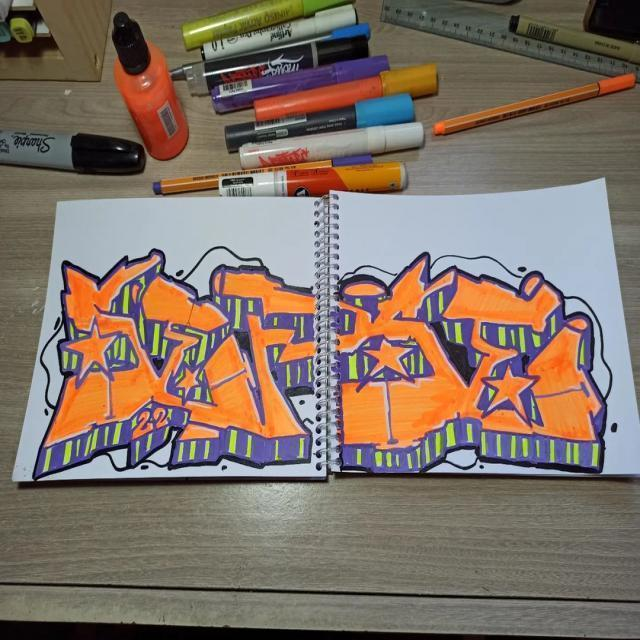nonspitting: (33, 243, 614, 473)
